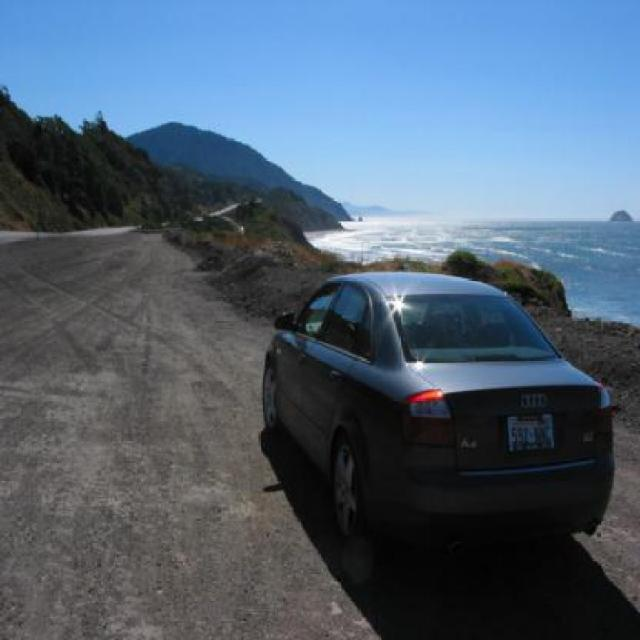License-Plates: (507, 415, 555, 452)
